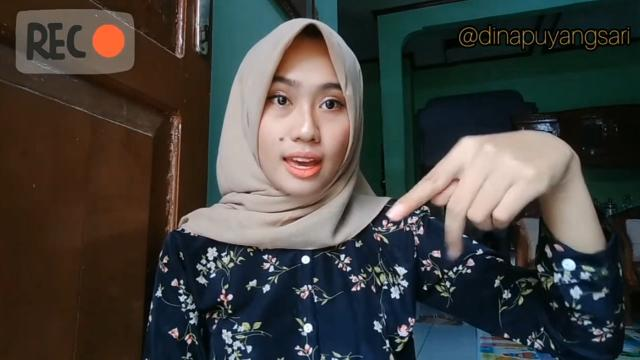P: (389, 129, 576, 261)
